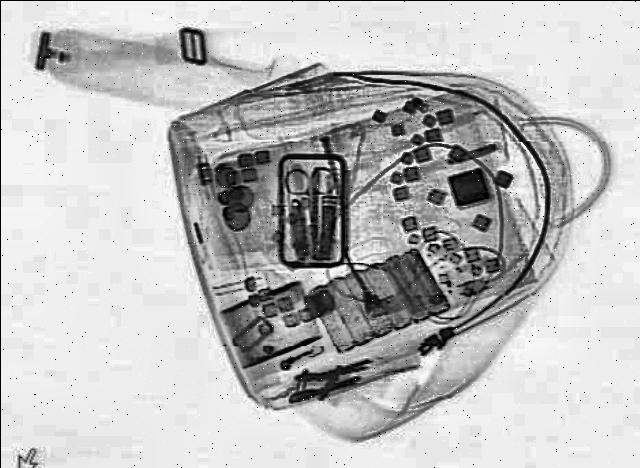Scissors: (279, 168, 339, 244)
